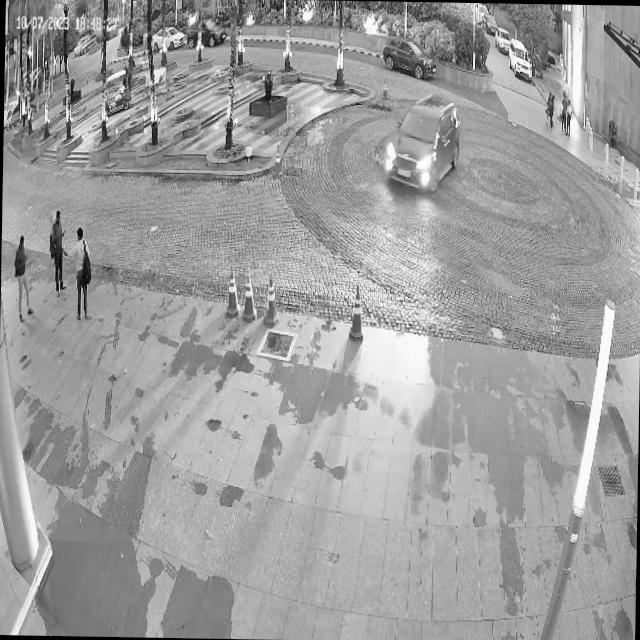person: (70, 222, 96, 320), (13, 235, 33, 322), (52, 202, 68, 290)
